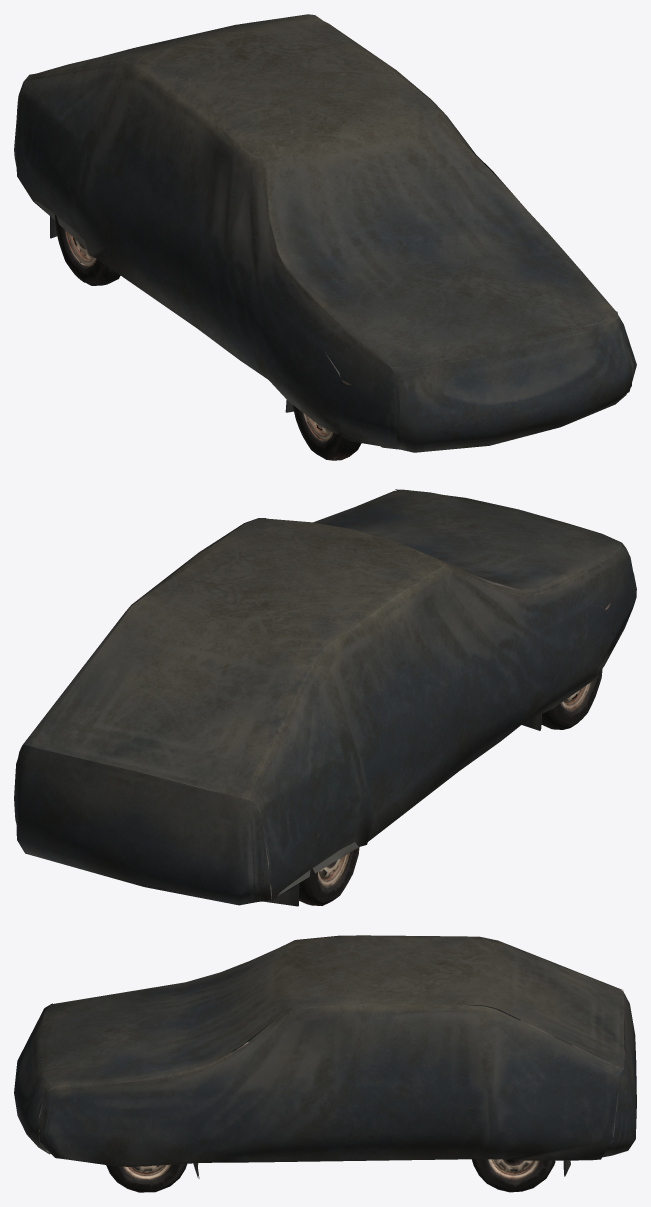
Rendered from covered_car.glb.
3 views of the same model, one above another, from view 1: azimuth 30°, elevation 25°; view 2: azimuth 150°, elevation 25°; view 3: azimuth 270°, elevation 25° (orthographic). The views are drawn at different scales.
Visible parts, largest first — view 1: covered_car, covered_car_wheel_03, covered_car_wheel_02; view 2: covered_car, covered_car_wheel_03, covered_car_wheel_02; view 3: covered_car, covered_car_wheel_04, covered_car_wheel_01.
Part boxes in pixels (x1=…): covered_car: x1=14, y1=14, x2=636, y2=452; covered_car_wheel_03: x1=55, y1=214, x2=120, y2=285; covered_car_wheel_02: x1=292, y1=405, x2=361, y2=460; covered_car: x1=14, y1=489, x2=636, y2=906; covered_car_wheel_03: x1=299, y1=847, x2=359, y2=905; covered_car_wheel_02: x1=541, y1=665, x2=602, y2=729; covered_car: x1=14, y1=935, x2=636, y2=1178; covered_car_wheel_04: x1=472, y1=1159, x2=555, y2=1192; covered_car_wheel_01: x1=106, y1=1163, x2=187, y2=1192.
Bounding box in the file's own units: 1.8 × 1.41 × 4.37.
Materials: 2 (2 with a texture image).
